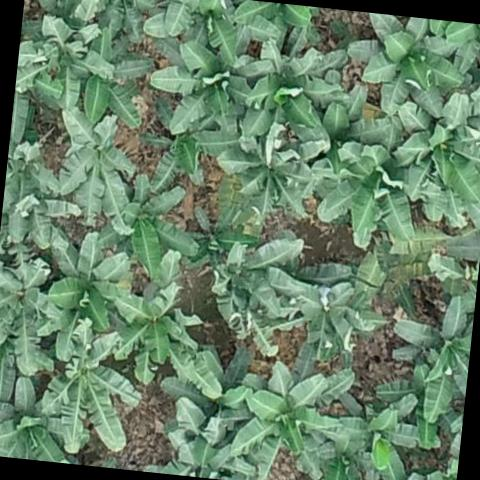Banana-plant: (37, 324, 146, 460), (208, 220, 302, 358), (316, 142, 430, 252), (276, 255, 390, 364), (346, 11, 466, 114), (386, 289, 476, 424), (42, 227, 130, 364), (146, 31, 256, 140), (96, 169, 202, 280), (229, 359, 340, 464), (238, 38, 342, 146), (53, 110, 140, 233), (392, 89, 480, 204), (0, 129, 83, 249), (154, 342, 252, 442), (318, 388, 424, 480), (215, 131, 316, 222), (302, 79, 396, 173), (111, 275, 188, 383), (74, 26, 154, 126), (140, 99, 220, 197), (0, 250, 61, 374), (15, 18, 98, 102), (0, 371, 75, 463), (161, 0, 279, 50), (183, 199, 258, 274), (20, 0, 94, 44)
